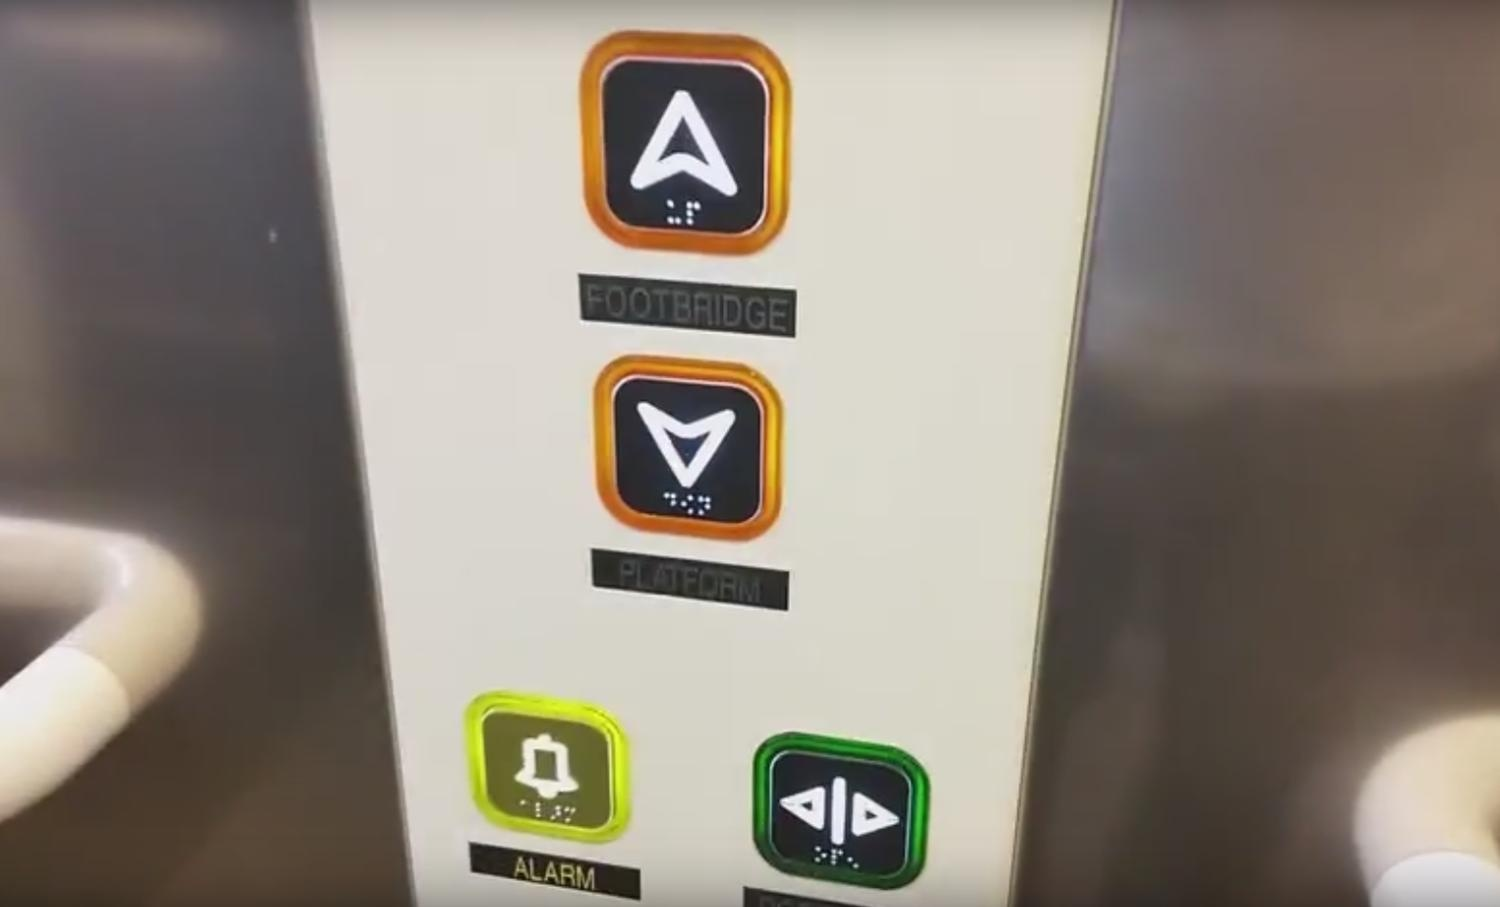alarm: (462, 686, 636, 857)
down: (589, 347, 794, 551)
open: (748, 723, 936, 898)
up: (572, 20, 799, 259)
